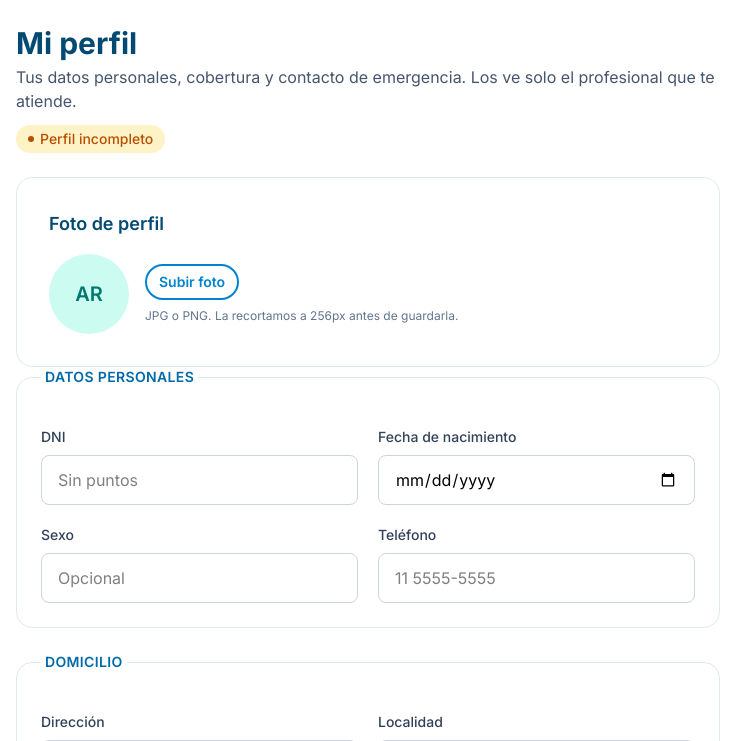
Scenario: ProfilePage › valida el teléfono
This screenshot has width=737, height=741.
Check: the text "Perfil incompleto" is shown, box x1=16 y1=125 x2=165 y2=153
Type "123" into the field labelled "Teléfono".
click(536, 578); type("123")  # box x1=378 y1=553 x2=695 y2=603
(page scrolled)
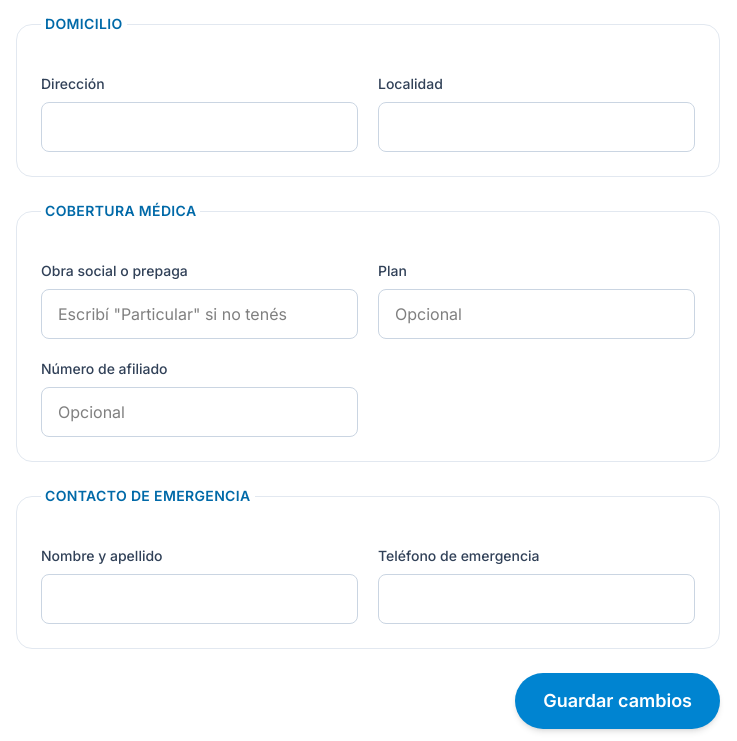
Click the button "Guardar cambios".
click(618, 701)  # box x1=515 y1=673 x2=720 y2=729
(page scrolled)
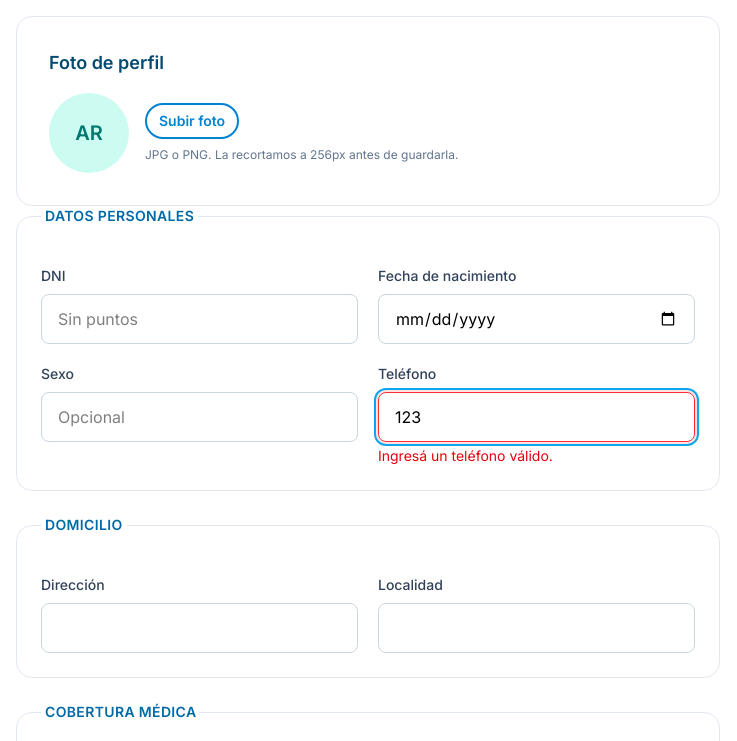
Check: the text "Ingresá un teléfono válido." is shown, box x1=378 y1=447 x2=553 y2=464
